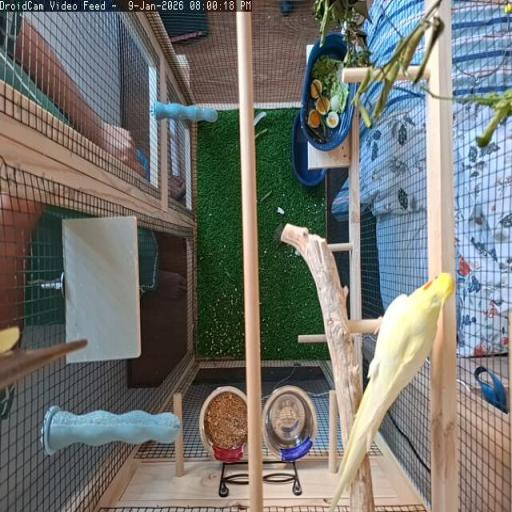bebedero: (263, 387, 316, 461)
comedero: (199, 386, 247, 462)
ninfa: (330, 273, 454, 511)
